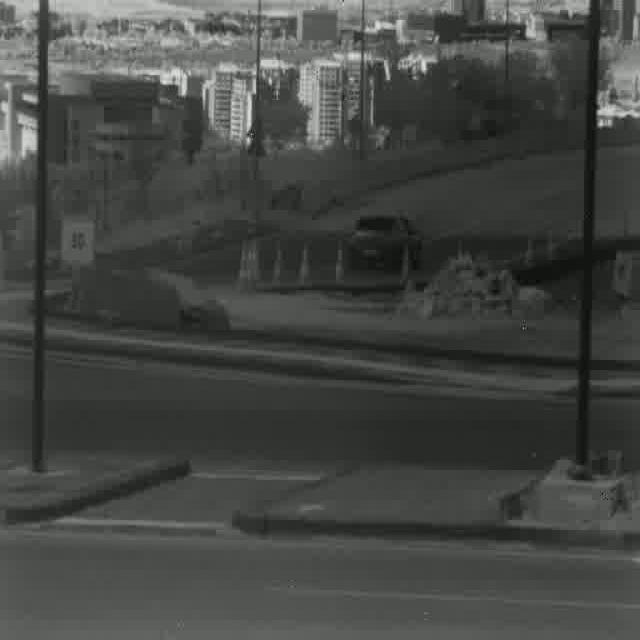Car: (346, 210, 423, 274)
